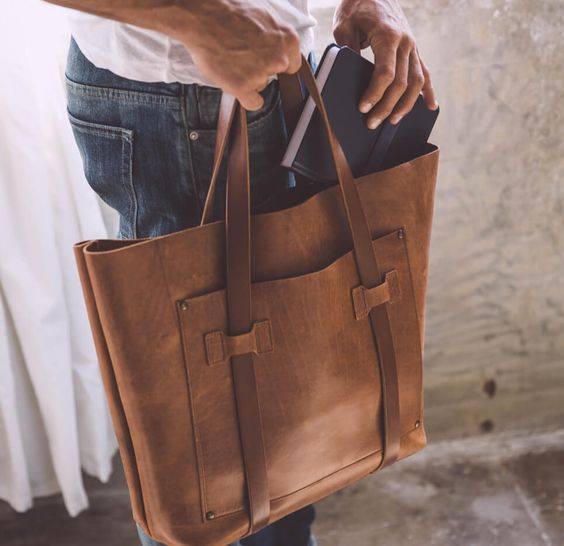cuero: (74, 49, 442, 546)
